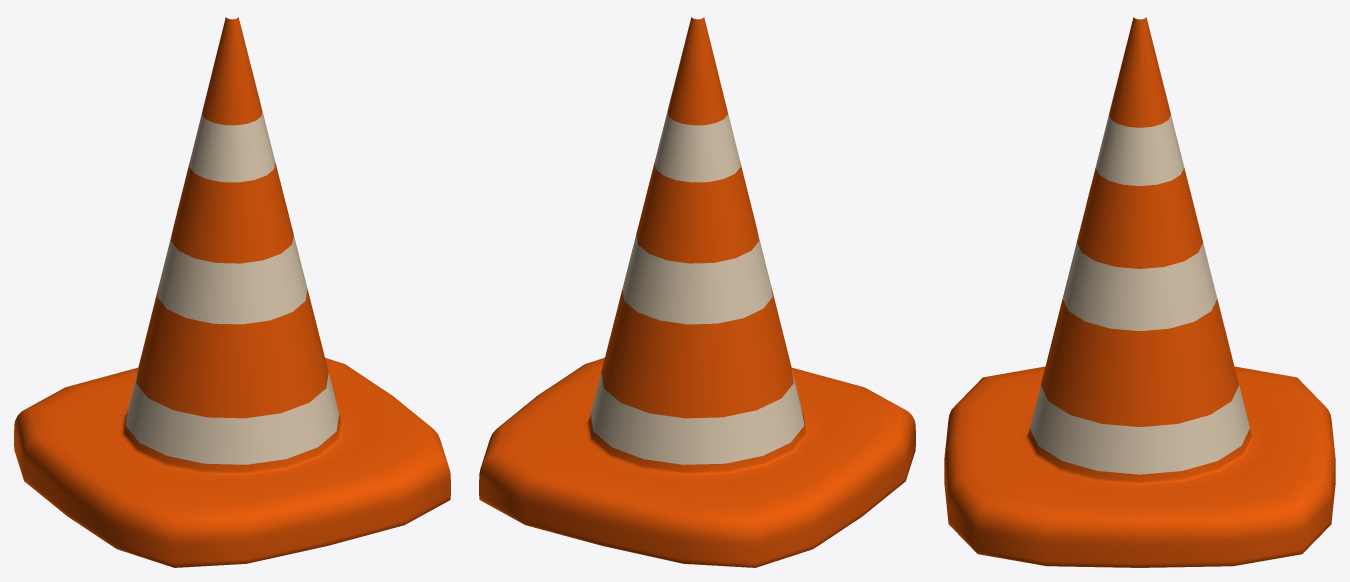
File: complex_shape.gltf
3 renders of one model, left to right at view 1: azimuth 30°, elevation 25°; view 2: azimuth 150°, elevation 25°; view 3: azimuth 270°, elevation 25°, orthographic. The views are drawn at different scales.
Visible parts, largest first — view 1: Actor; view 2: Actor; view 3: Actor.
Boxes of the visible parts, x1,y1,x2,y2 form: Actor: (14, 17, 450, 567); Actor: (479, 17, 915, 567); Actor: (944, 17, 1335, 567).
Size of what is drawn, in the model's own units: 2 by 2.65 by 2.
